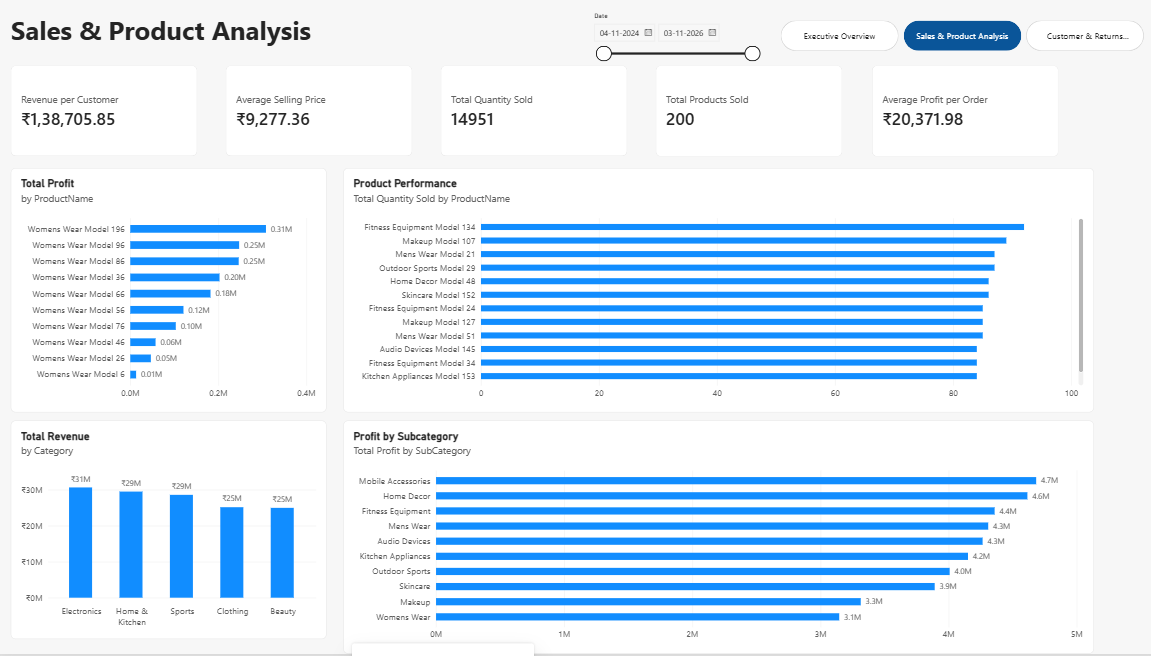

What the dashboard file says about the page in this screenshot:
{"tool":"powerbi","page":{"name":"Sales & Product Analysis","canvas":[1920,1080],"ordinal":1},"visuals":[{"type":"cardVisual","fields":{"Data":["vw_OrderLineDetails.Average Selling Price"]},"box":[377,112,307,149.7],"z":0},{"type":"cardVisual","fields":{"Data":["vw_OrderLineDetails.Total Quantity Sold"]},"box":[731.3,112,307,149.7],"z":1000},{"type":"cardVisual","fields":{"Data":["vw_OrderLineDetails.Total Products Sold"]},"box":[1085.7,112,307,150],"z":2000},{"type":"cardVisual","fields":{"Data":["vw_OrderLineDetails.Average Profit per Order"]},"box":[1440,112,307,150],"z":3000},{"type":"cardVisual","fields":{"Data":["vw_OrderLineDetails.Revenue per Customer"]},"box":[22.6,111.1,307,149.7],"z":4000},{"type":"textbox","box":[22,22,862,76],"z":5000},{"type":"clusteredBarChart","title":"Product Performance","fields":{"Category":["vw_OrderLineDetails.ProductName"],"Y":["vw_OrderLineDetails.Total Quantity Sold"]},"box":[570,280,1236,402],"z":5001},{"type":"clusteredColumnChart","fields":{"Category":["vw_OrderLineDetails.Category"],"Y":["vw_CategoryPerformance.Total Revenue"]},"box":[22,696,520,360],"z":5002},{"type":"clusteredBarChart","title":"Profit by Subcategory","fields":{"Category":["vw_OrderLineDetails.SubCategory"],"Y":["vw_OrderLineDetails.Total Profit"]},"box":[570,696,1236,384],"z":5003},{"type":"clusteredBarChart","fields":{"Category":["vw_OrderLineDetails.ProductName"],"Y":["vw_OrderLineDetails.Total Profit"]},"box":[22,280,520,402],"z":5004},{"type":"slicer","fields":{"Values":["DateTable.Date"]},"box":[975.6,22.6,284.4,121.9],"z":5005},{"type":"pageNavigator","box":[1291.1,36.4,600,50],"z":5006}]}

Visuals, with their boxes in screenshot pixels (x1, y1, x2, y2), scaled from the page's 1920x1080 canvas onto the 1151x656 screenshot:
cardVisual - vw_OrderLineDetails.Average Selling Price: 226,68,410,159
cardVisual - vw_OrderLineDetails.Total Quantity Sold: 438,68,622,159
cardVisual - vw_OrderLineDetails.Total Products Sold: 651,68,835,159
cardVisual - vw_OrderLineDetails.Average Profit per Order: 863,68,1047,159
cardVisual - vw_OrderLineDetails.Revenue per Customer: 14,67,198,158
textbox: 13,13,530,60
"Product Performance" clusteredBarChart: 342,170,1083,414
clusteredColumnChart - vw_OrderLineDetails.Category x vw_CategoryPerformance.Total Revenue: 13,423,325,641
"Profit by Subcategory" clusteredBarChart: 342,423,1083,655
clusteredBarChart - vw_OrderLineDetails.ProductName x vw_OrderLineDetails.Total Profit: 13,170,325,414
slicer - DateTable.Date: 585,14,755,88
pageNavigator: 774,22,1134,52
